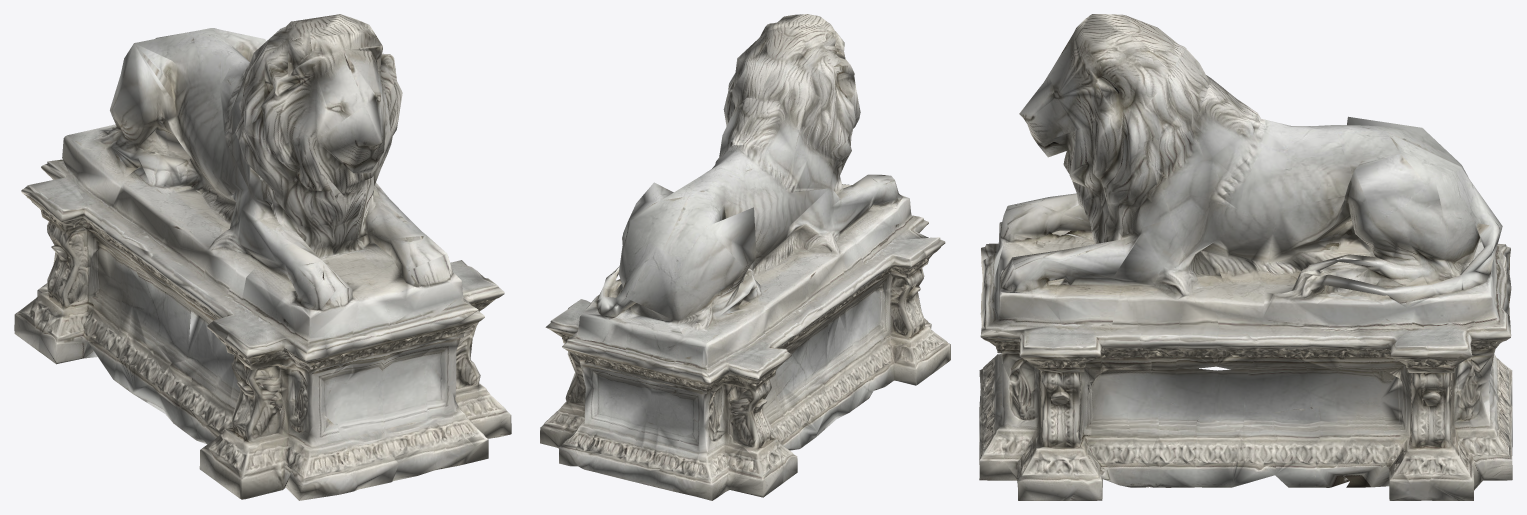
Rendered from lion.glb.
3 renders of one model, left to right at view 1: azimuth 30°, elevation 25°; view 2: azimuth 150°, elevation 25°; view 3: azimuth 270°, elevation 25°, orthographic. The views are drawn at different scales.
Parts seen in each view (by area): view 1: lion; view 2: lion; view 3: lion.
Boxes of the visible parts, bbox=[...] form: lion: bbox=[14, 14, 511, 500]; lion: bbox=[540, 14, 950, 500]; lion: bbox=[979, 14, 1512, 500].
Bounding box in the file's own units: 111 × 161 × 190.
Materials: 1 (1 with a texture image).
